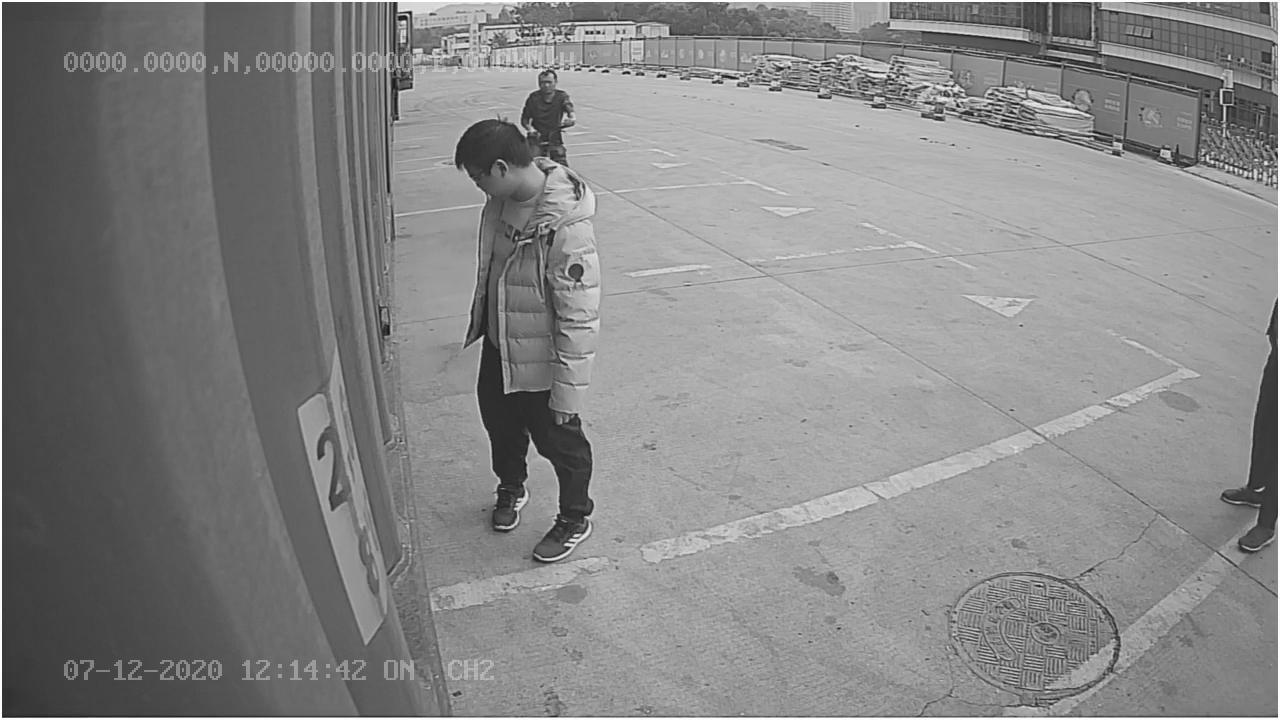person: (452, 116, 603, 562)
